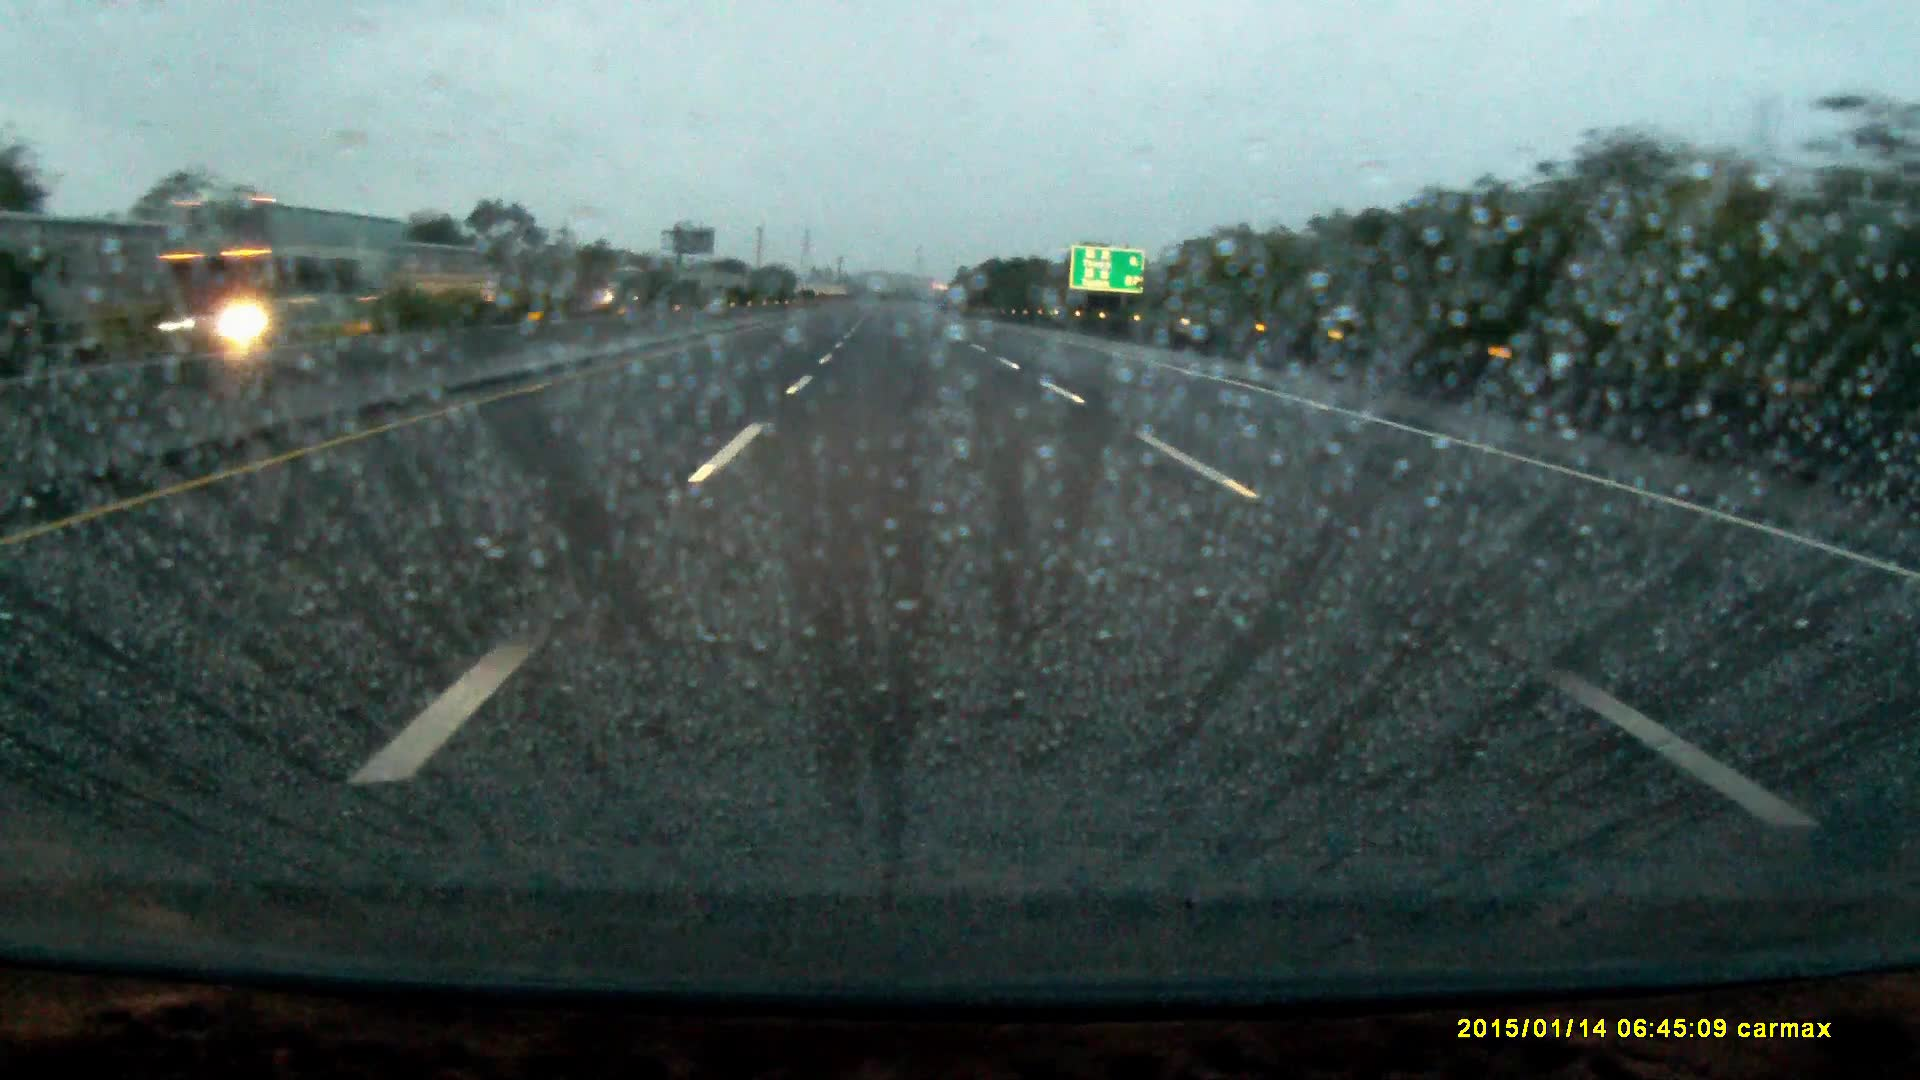vehicle: (138, 193, 381, 338), (608, 266, 673, 307)
